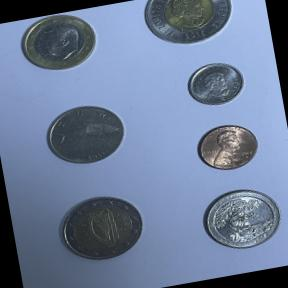1 Euro-B: (13, 7, 102, 80)
2 Euro-B: (50, 186, 150, 268)
Canada-10cent-B: (181, 56, 250, 113)
Canada-2Dollar-B: (137, 0, 242, 54)
Croatia-2Kune-B: (36, 92, 133, 174)
US-1cent-B: (191, 116, 266, 178)
US-25cent-B: (194, 179, 288, 258)
